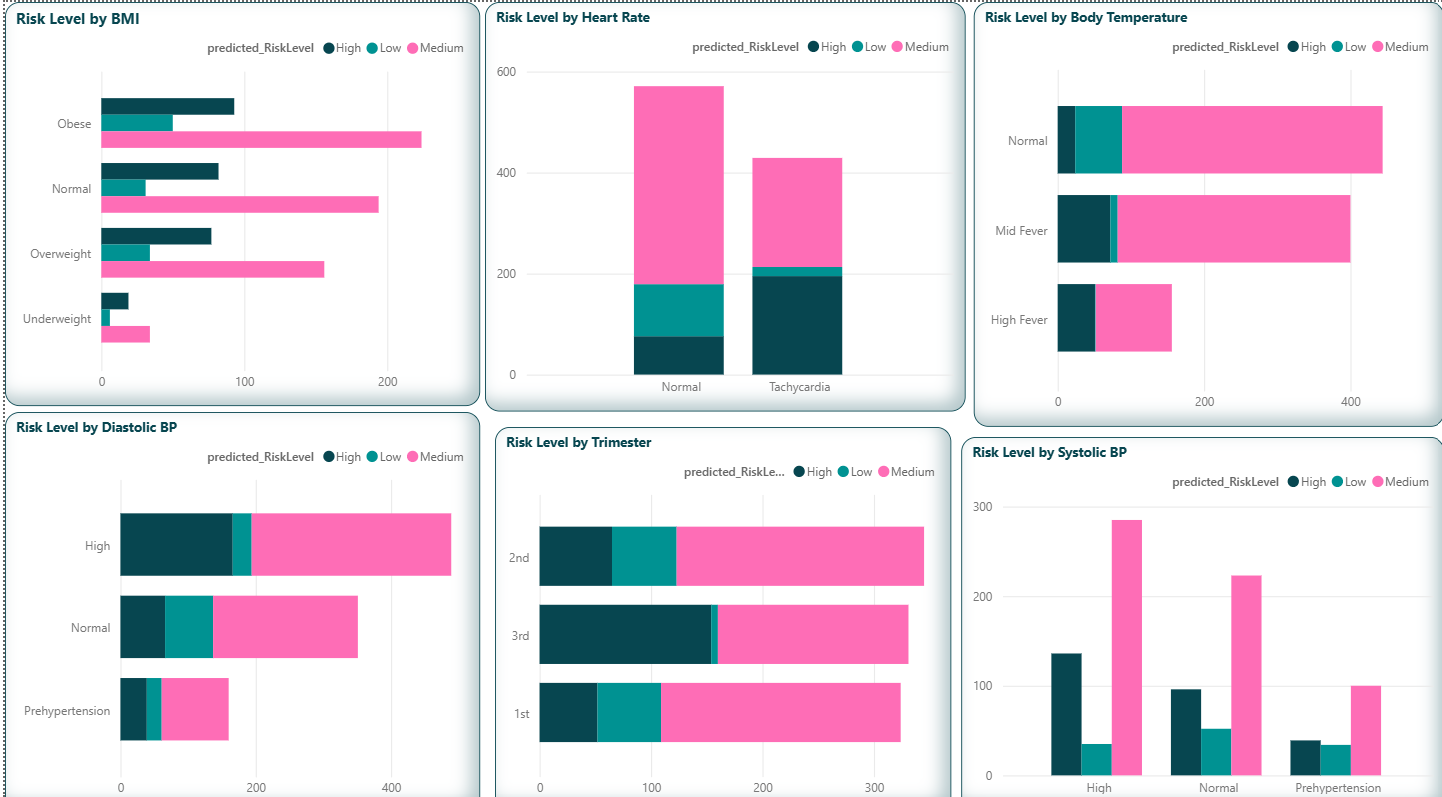

The page's visual inventory and layout, read from the dashboard file:
{"tool":"powerbi","page":{"name":"Page 2","canvas":[1280,720],"ordinal":1},"visuals":[{"type":"clusteredColumnChart","title":"Risk Level by Systolic BP","fields":{"Category":["enhanced data smart mum.Systolic_BP"],"Y":["CountNonNull(enhanced data smart mum.predicted_RiskLevel)"],"Series":["enhanced data smart mum.predicted_RiskLevel"]},"box":[849.8,386.6,430.6,333.6],"z":0},{"type":"barChart","title":"Risk Level by Body Temperature","fields":{"Y":["CountNonNull(smartmum bquxjob_398f1280_198004d21d5.predicted_RiskLevel)"],"Category":["smartmum bquxjob_398f1280_198004d21d5.BodyTemp_Category "],"Series":["smartmum bquxjob_398f1280_198004d21d5.predicted_RiskLevel"]},"box":[861.1,0,419.3,377.6],"z":1000},{"type":"barChart","title":"Risk Level by Trimester","fields":{"Category":["enhanced data smart mum.Trimester"],"Y":["CountNonNull(enhanced data smart mum.predicted_RiskLevel)"],"Series":["enhanced data smart mum.predicted_RiskLevel"]},"box":[435.1,377.6,405.8,342.6],"z":2000},{"type":"clusteredBarChart","title":"Risk Level by BMI","fields":{"Category":["enhanced data smart mum.BMI_Category"],"Y":["CountNonNull(enhanced data smart mum.predicted_RiskLevel)"],"Series":["enhanced data smart mum.predicted_RiskLevel"]},"box":[0,0,422.7,359.6],"z":3000},{"type":"barChart","title":"Risk Level by Diastolic BP ","fields":{"Category":["enhanced data smart mum.Diastolic_BP"],"Y":["CountNonNull(enhanced data smart mum.predicted_RiskLevel)"],"Series":["enhanced data smart mum.predicted_RiskLevel"]},"box":[0,364.1,422.7,356.2],"z":4000},{"type":"columnChart","title":"Risk Level by Heart Rate","fields":{"Y":["CountNonNull(enhanced data smart mum.predicted_RiskLevel)"],"Category":["enhanced data smart mum.Heart_Rate"],"Series":["enhanced data smart mum.predicted_RiskLevel"]},"box":[427.2,0,427.2,364.1],"z":5000}]}

Visuals, with their boxes in screenshot pixels (x1, y1, x2, y2), scaled from the page's 1280x720 canvas onto the 1442x797 screenshot:
"Risk Level by Systolic BP" clusteredColumnChart: [left=957, top=428, right=1441, bottom=796]
"Risk Level by Body Temperature" barChart: [left=970, top=0, right=1441, bottom=418]
"Risk Level by Trimester" barChart: [left=490, top=418, right=947, bottom=796]
"Risk Level by BMI" clusteredBarChart: [left=0, top=0, right=476, bottom=398]
"Risk Level by Diastolic BP " barChart: [left=0, top=403, right=476, bottom=796]
"Risk Level by Heart Rate" columnChart: [left=481, top=0, right=963, bottom=403]
